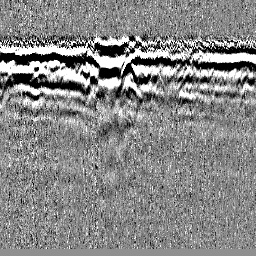cavity: (118, 55, 136, 87)
